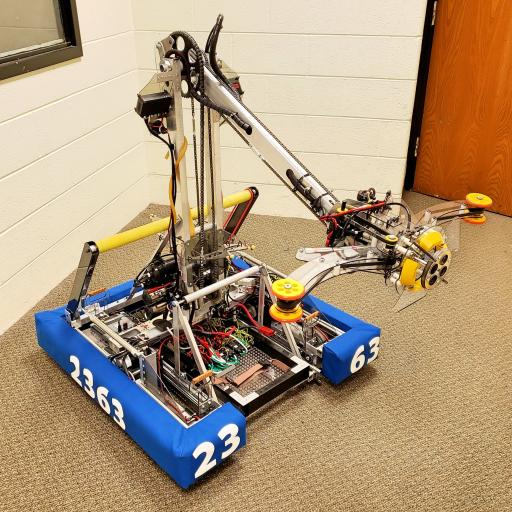robot: (31, 13, 493, 495)
